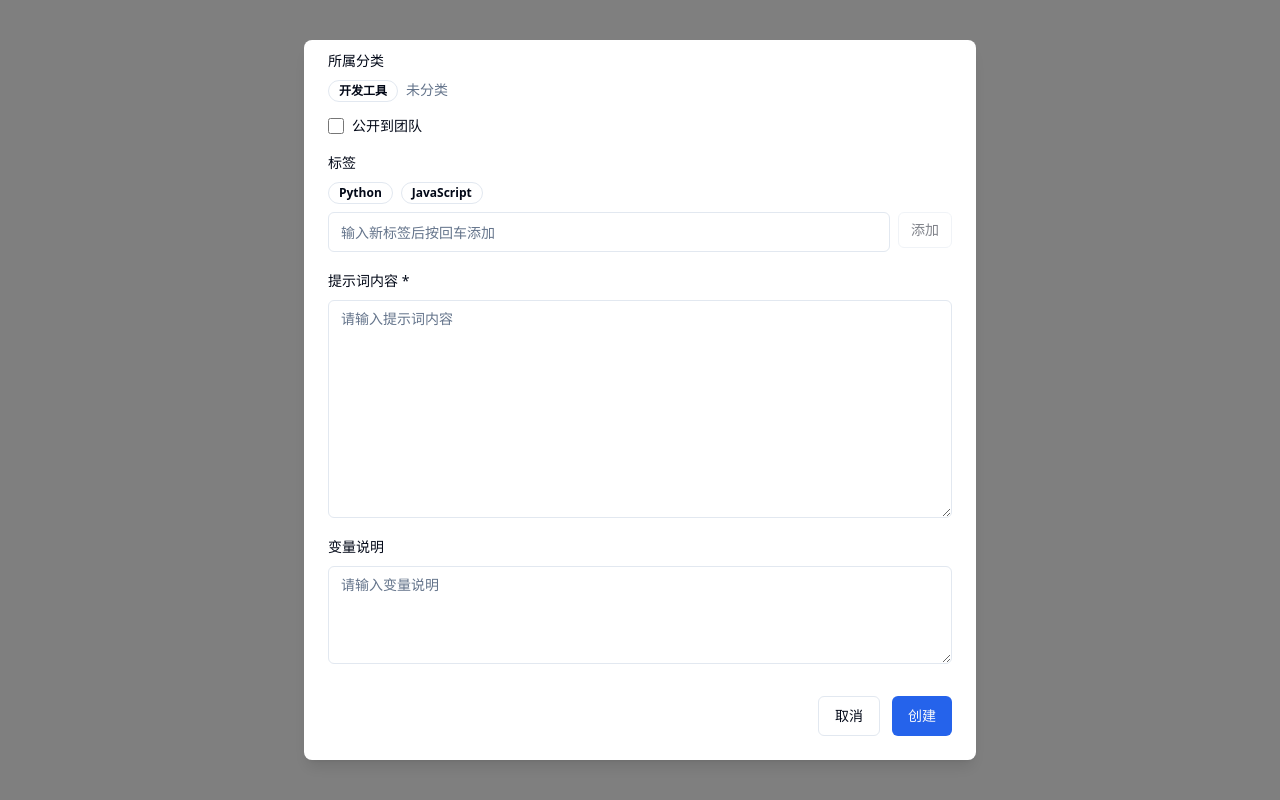
Test: PromptForm › should show validation errors for empty required fields
(page scrolled)
Step 1. Click the button "创建" → x=922, y=716, box [892,696,952,736]
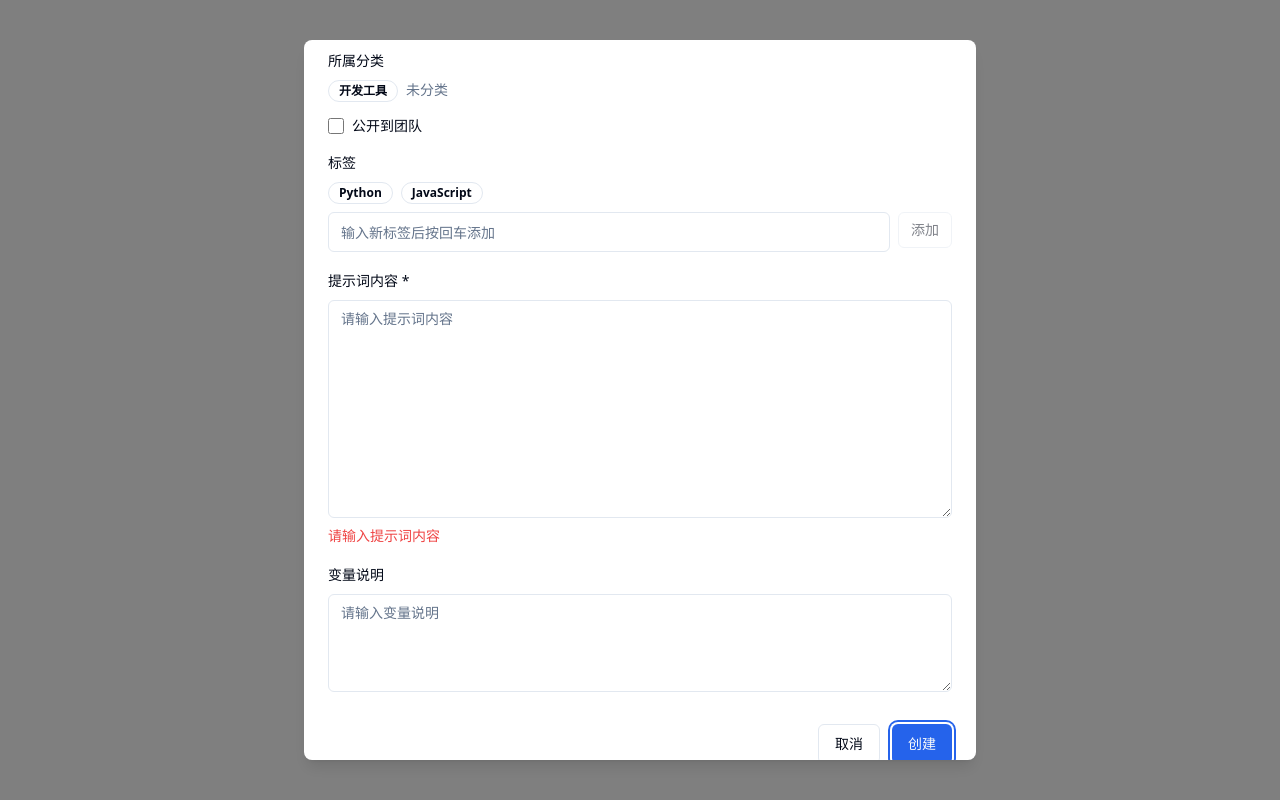
Check: the text "请输入提示词内容" is shown, box [328,526,440,545]
